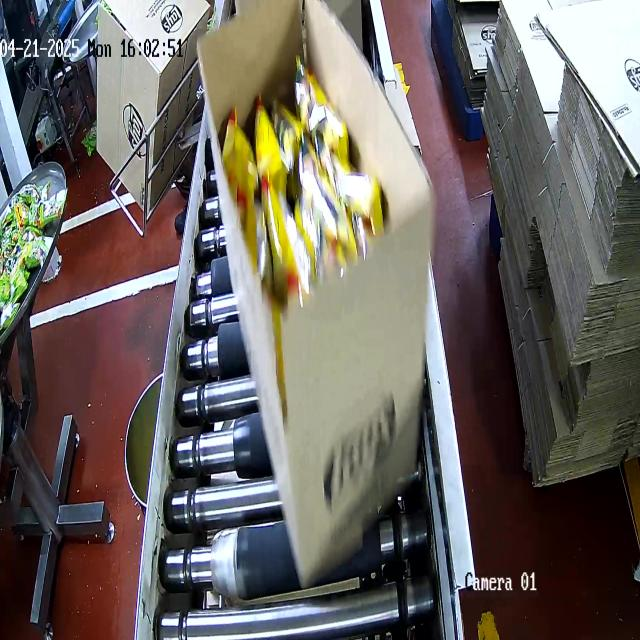SALTED: (224, 88, 368, 268)
